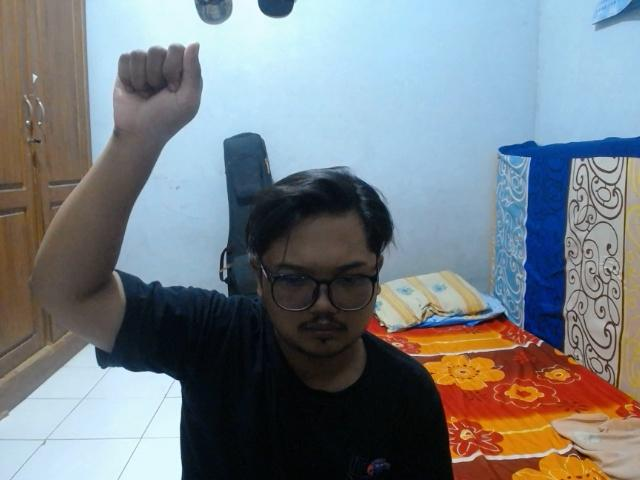Grab: (110, 39, 203, 143)
